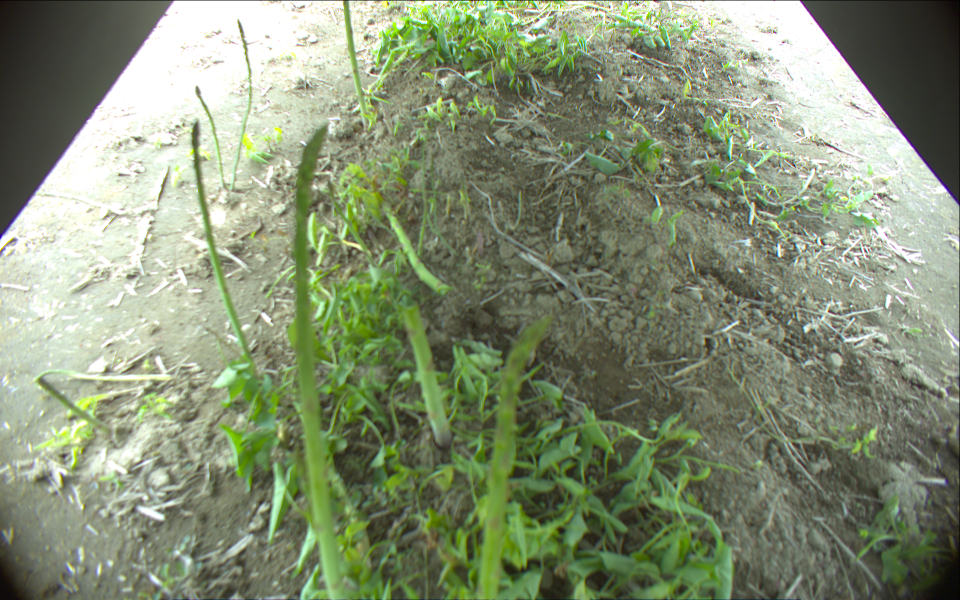aspa: (472, 314, 555, 600), (292, 126, 329, 600), (191, 119, 257, 373), (374, 194, 450, 296), (399, 303, 450, 447), (230, 17, 254, 192), (38, 379, 113, 435), (341, 1, 368, 127), (193, 85, 226, 188), (37, 368, 173, 382)
